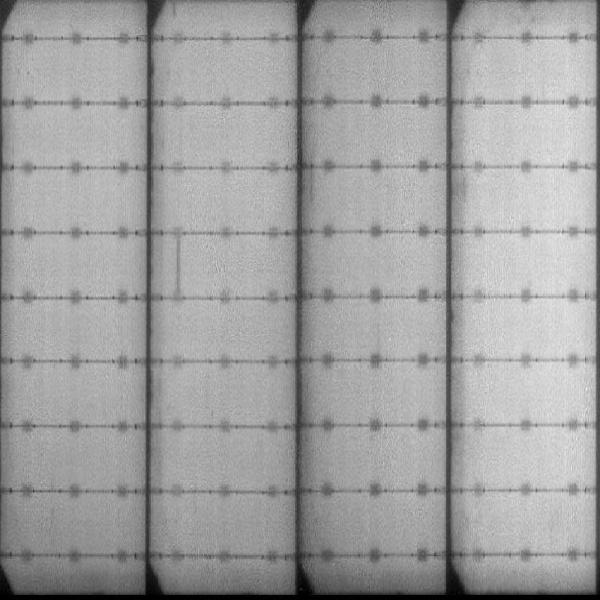scratch: (168, 233, 187, 293)
